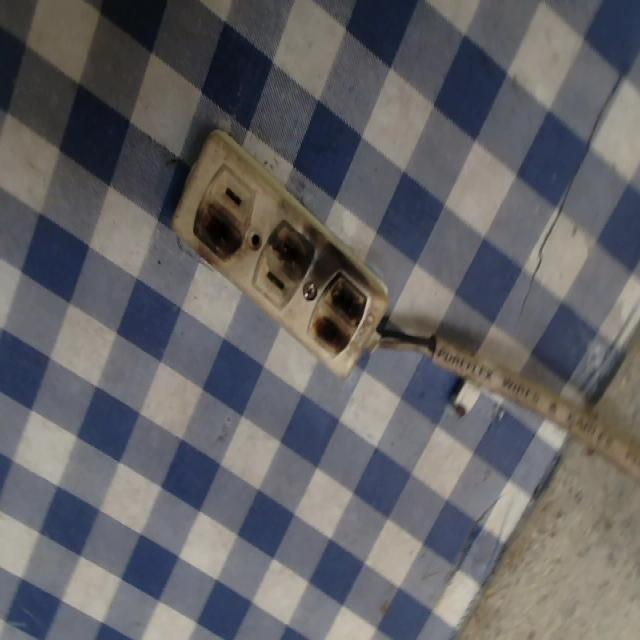-: (304, 270, 369, 358), (256, 210, 317, 278), (188, 196, 244, 261)
